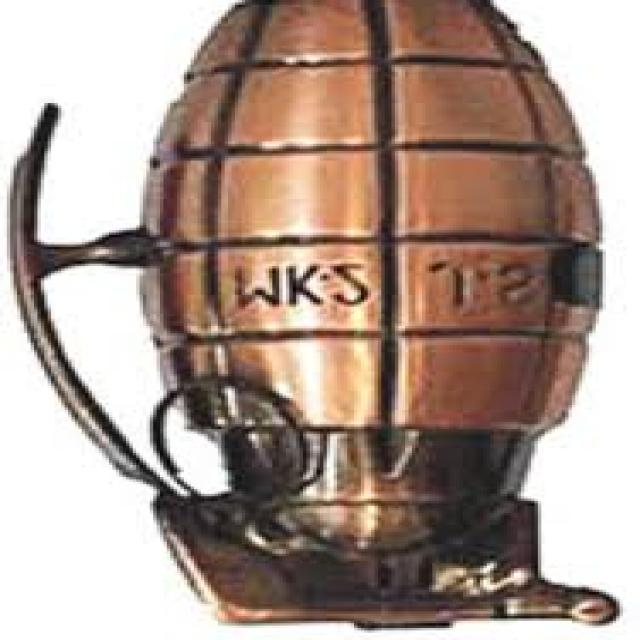grenade: (1, 1, 631, 640)
